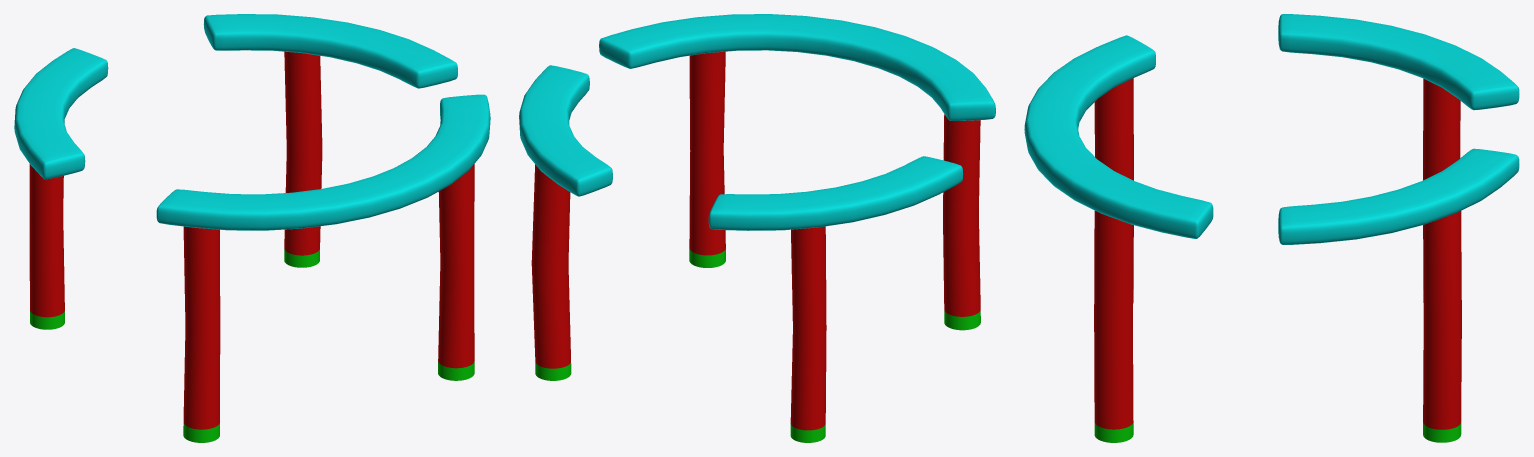
Rendered from Platform_Surronding.fbx.
The picture shows the model from 3 angles, left to right: view 1: azimuth 30°, elevation 25°; view 2: azimuth 150°, elevation 25°; view 3: azimuth 270°, elevation 25°; orthographic projection. The views are drawn at different scales.
Visible parts, largest first — view 1: Platform_Surronding; view 2: Platform_Surronding; view 3: Platform_Surronding.
Part boxes in pixels (x1,y1,x2,y2): Platform_Surronding: (14, 14, 490, 442); Platform_Surronding: (519, 14, 995, 442); Platform_Surronding: (1024, 14, 1519, 442).
Bounding box in the file's own units: 1171 × 635 × 1137.
